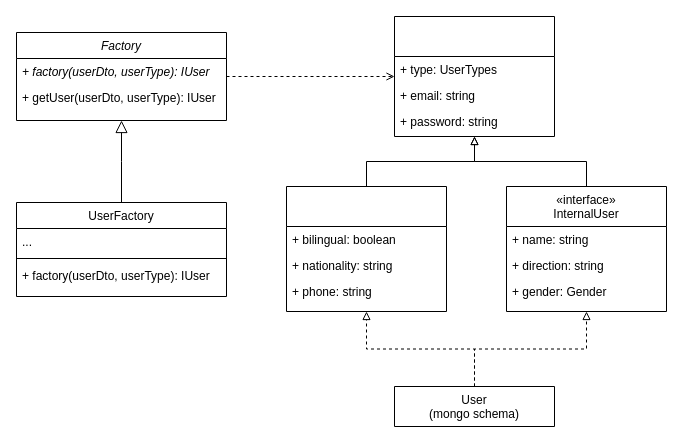
Image size: 683x443. Some labels were removed from this diagram. The shapes that lost their labels are listed below. From the top down, each one's box as (x1, y1, x2, y2) in pixels, then its label:
(394, 16, 554, 136): «interface» IUser
(286, 186, 446, 312): «interface» ExternalUser
